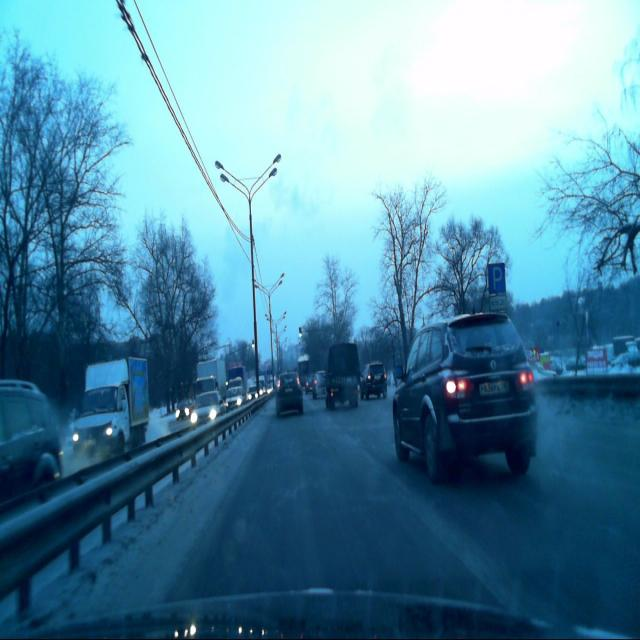road sign: (488, 262, 506, 293), (488, 295, 507, 310)
